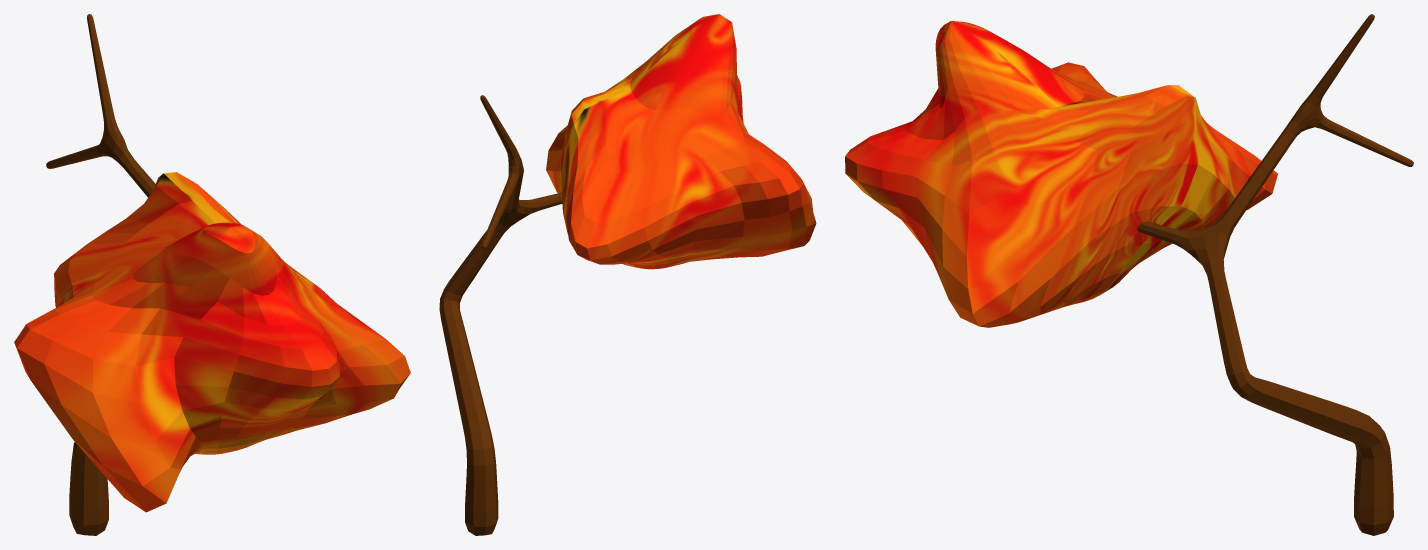
File: newfire5.obj
3 views of the same model, side by side, from view 1: azimuth 30°, elevation 25°; view 2: azimuth 150°, elevation 25°; view 3: azimuth 270°, elevation 25° (orthographic). The views are drawn at different scales.
Parts seen in each view (by area): view 1: Sphere; view 2: Sphere; view 3: Sphere.
Part boxes in pixels (<box>): Sphere: <box>14,14,410,535</box>; Sphere: <box>439,14,816,535</box>; Sphere: <box>845,14,1413,535</box>.
Size of the model in its own units: 3.08 by 4.44 by 4.4.
